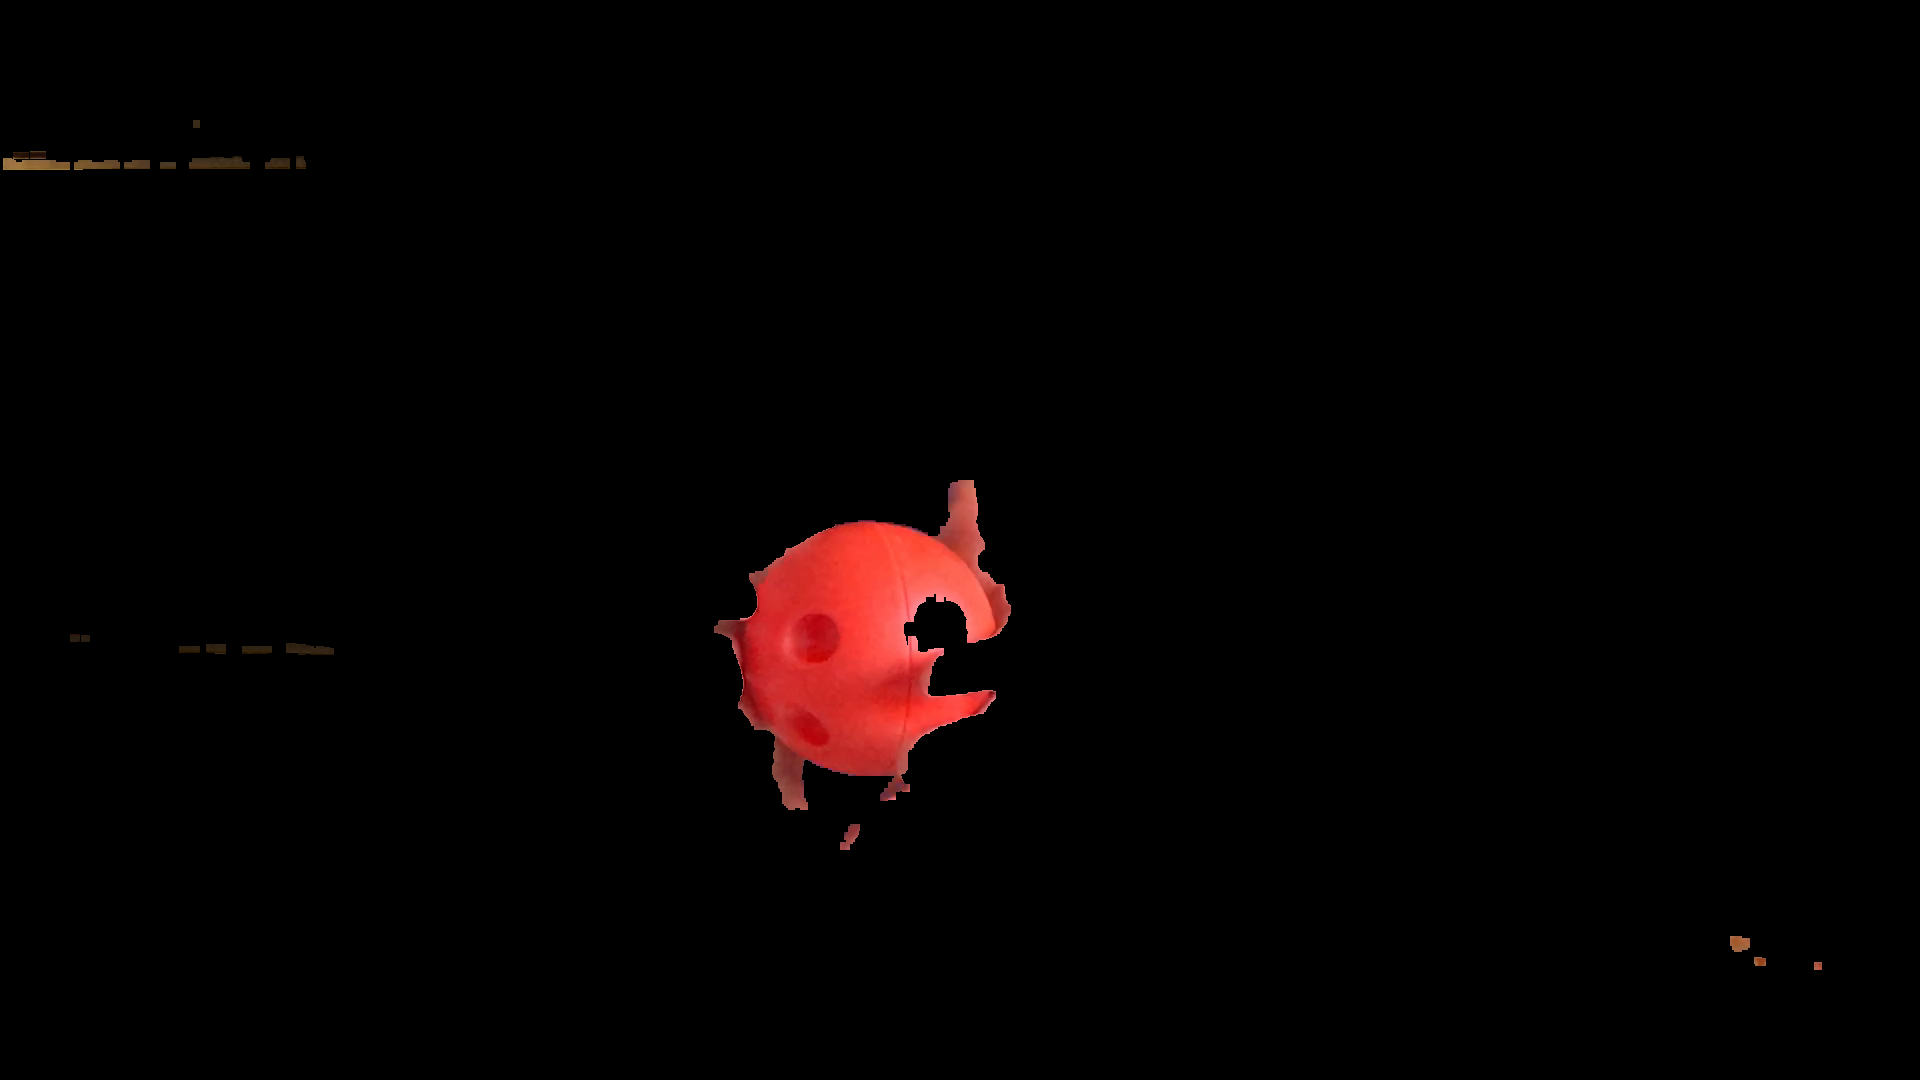Ball: (750, 502, 1019, 793)
